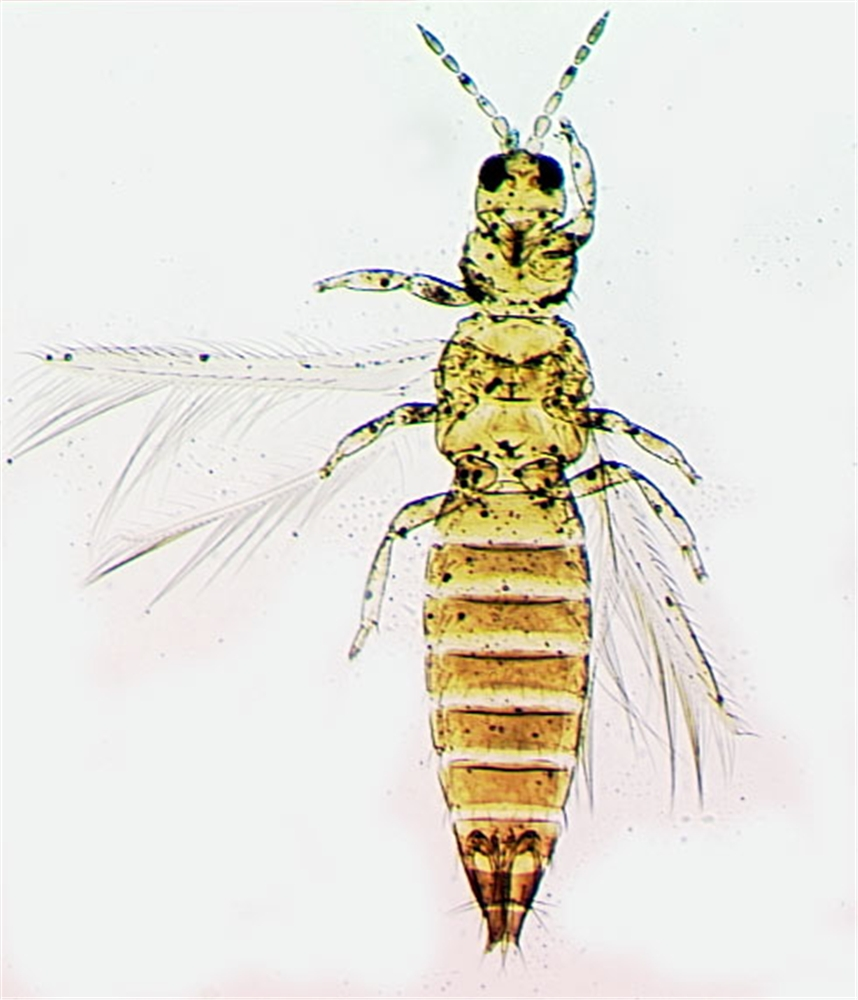Thripidae: (19, 1, 730, 958)
